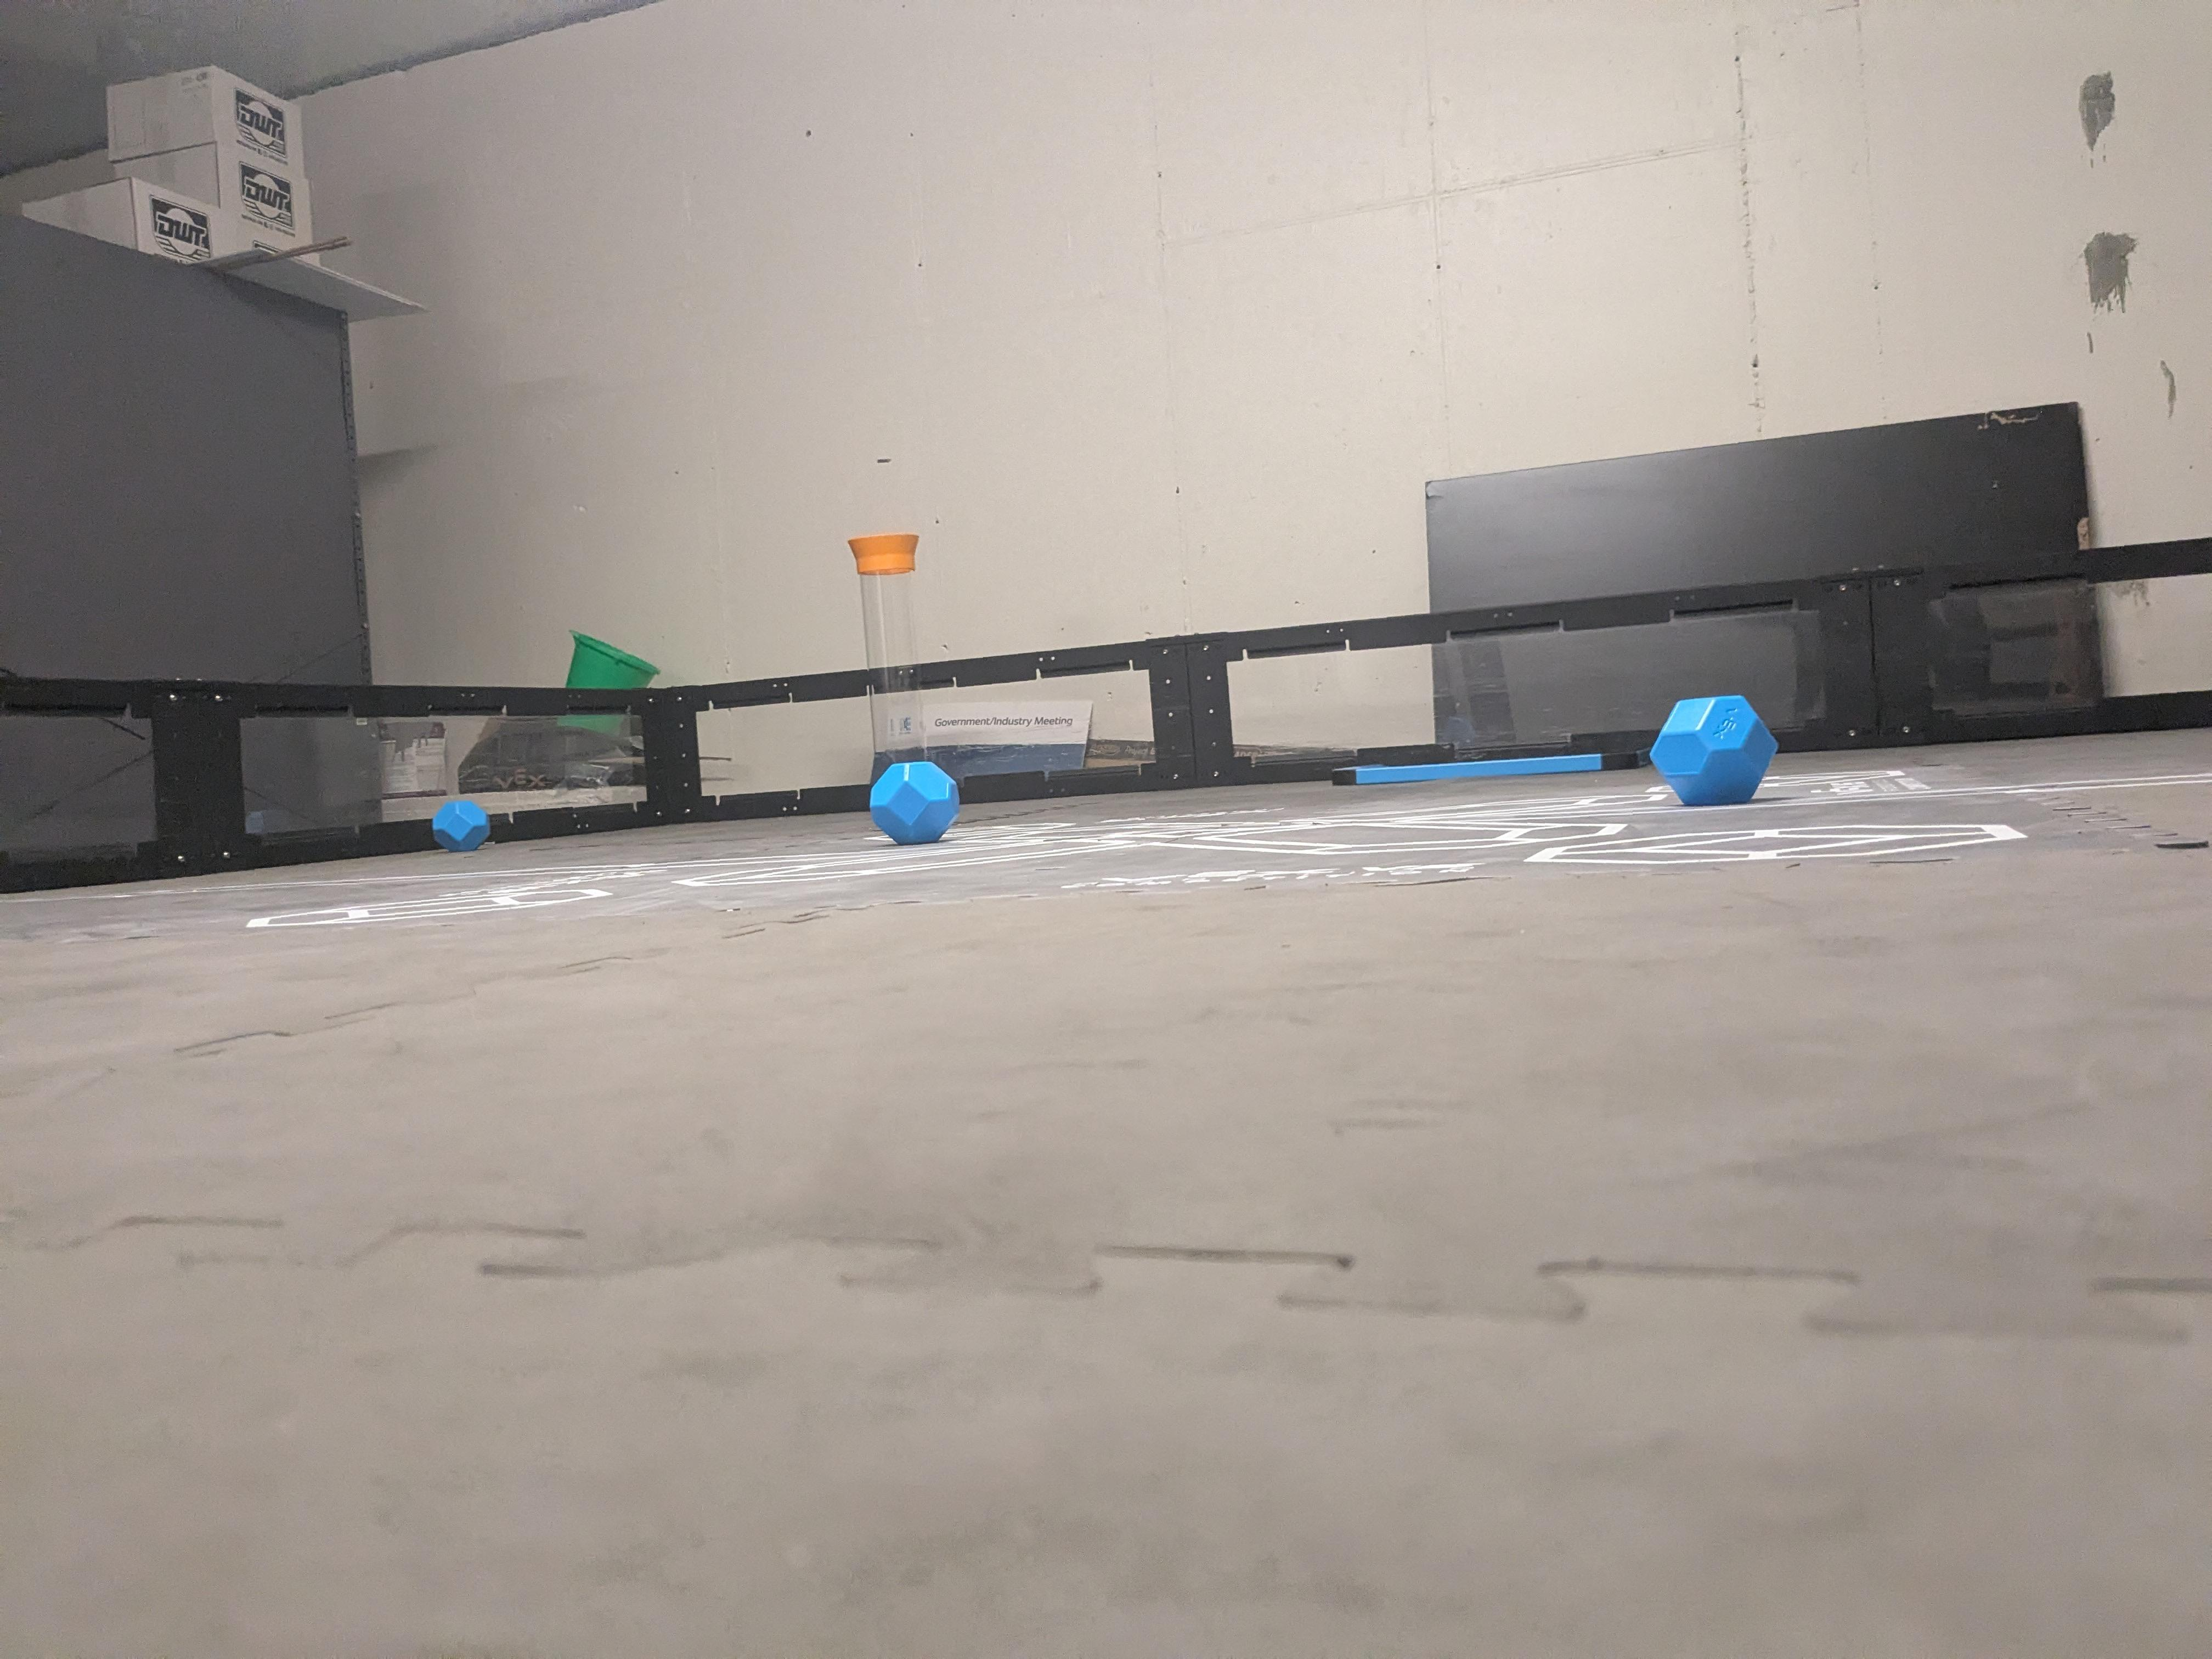Vex-Pieces-BLUE: (1655, 697, 1773, 805), (871, 758, 961, 842), (432, 798, 489, 852)
